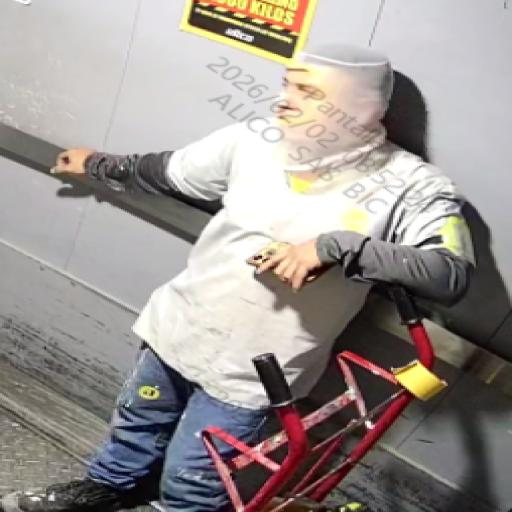person: (57, 25, 512, 512)
